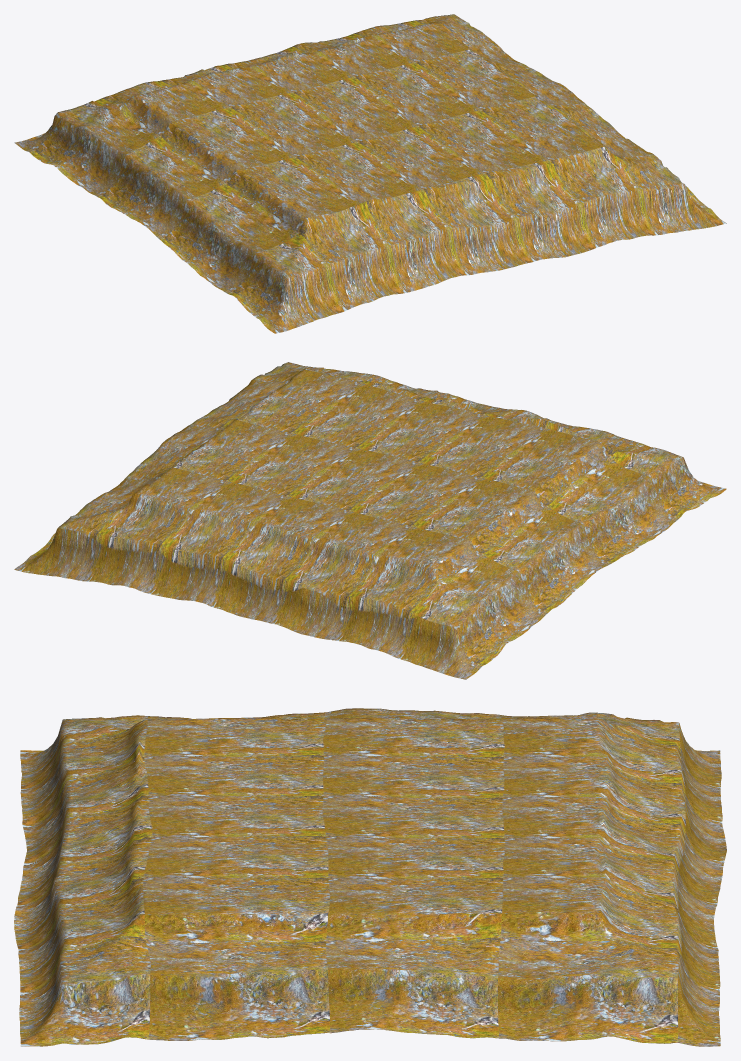
File: houseground.glb
3 views of the same model, one above another, from view 1: azimuth 30°, elevation 25°; view 2: azimuth 150°, elevation 25°; view 3: azimuth 270°, elevation 25° (orthographic). The views are drawn at different scales.
Parts seen in each view (by area): view 1: Grid; view 2: Grid; view 3: Grid.
Boxes of the visible parts, x1=… form: Grid: x1=14, y1=14, x2=726, y2=333; Grid: x1=14, y1=362, x2=726, y2=679; Grid: x1=14, y1=708, x2=726, y2=1046.
Bounding box in the file's own units: 60.48 × 8.64 × 61.31.
1 material, 1 textured.
